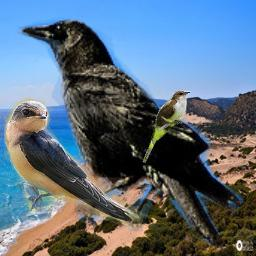Crow: (10, 16, 243, 252)
Cuckoo: (142, 90, 191, 163)
Swallow: (4, 93, 146, 229)
